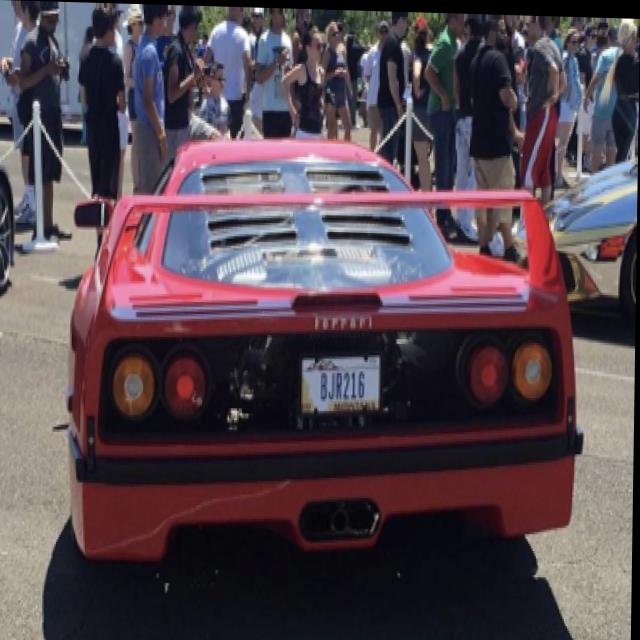licence: (300, 356, 382, 410)
